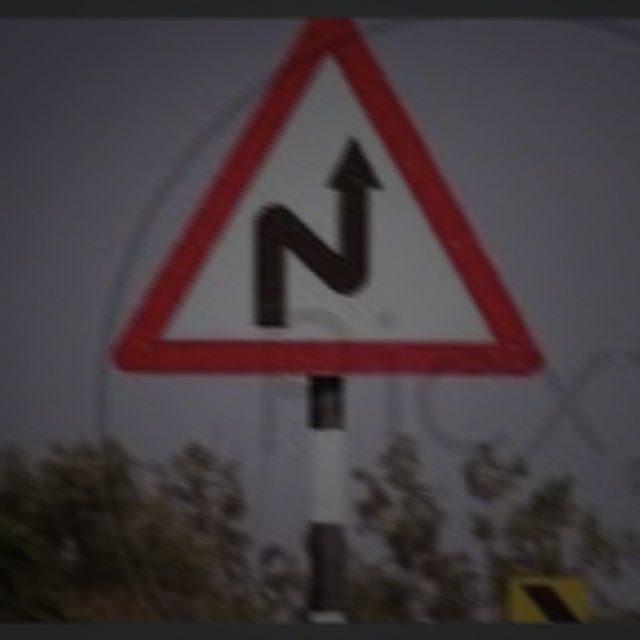Right_Reverse_Bend: (131, 43, 536, 376)
